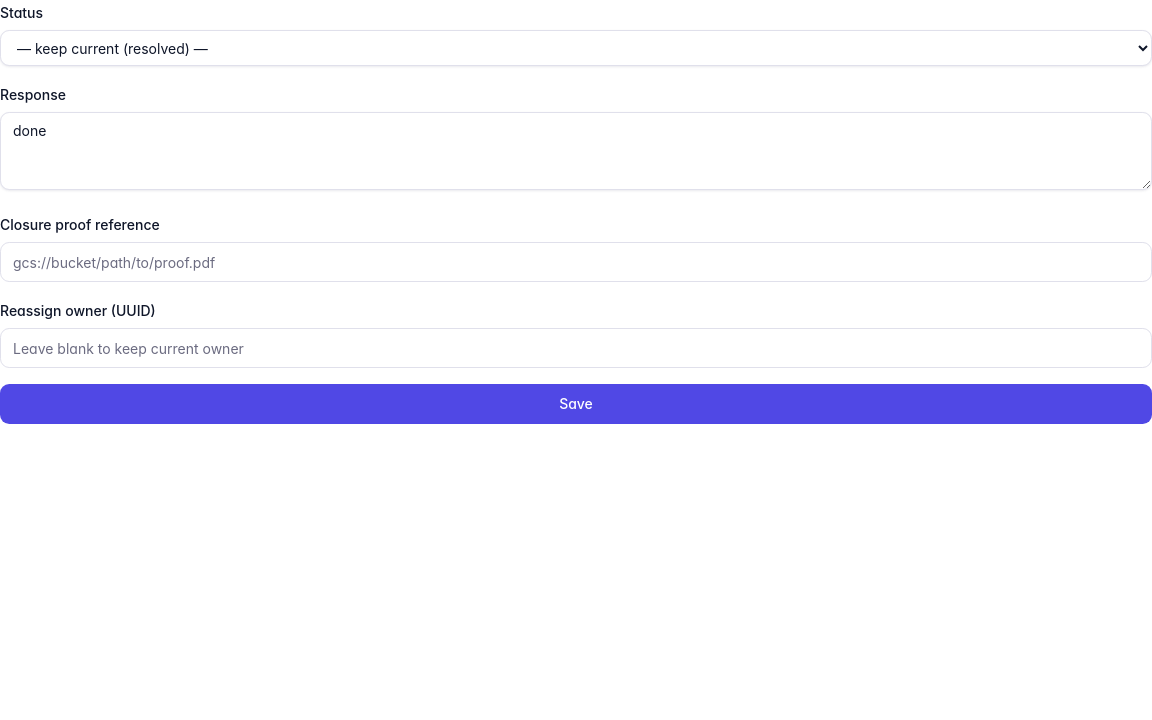
Test: GrievanceResolutionForm › shows ConfirmDialog when user submits status=closed
// Select "closed"
Select "closed" in the dropdown labelled "Status" at (576, 48), box [0,30,1151,66]
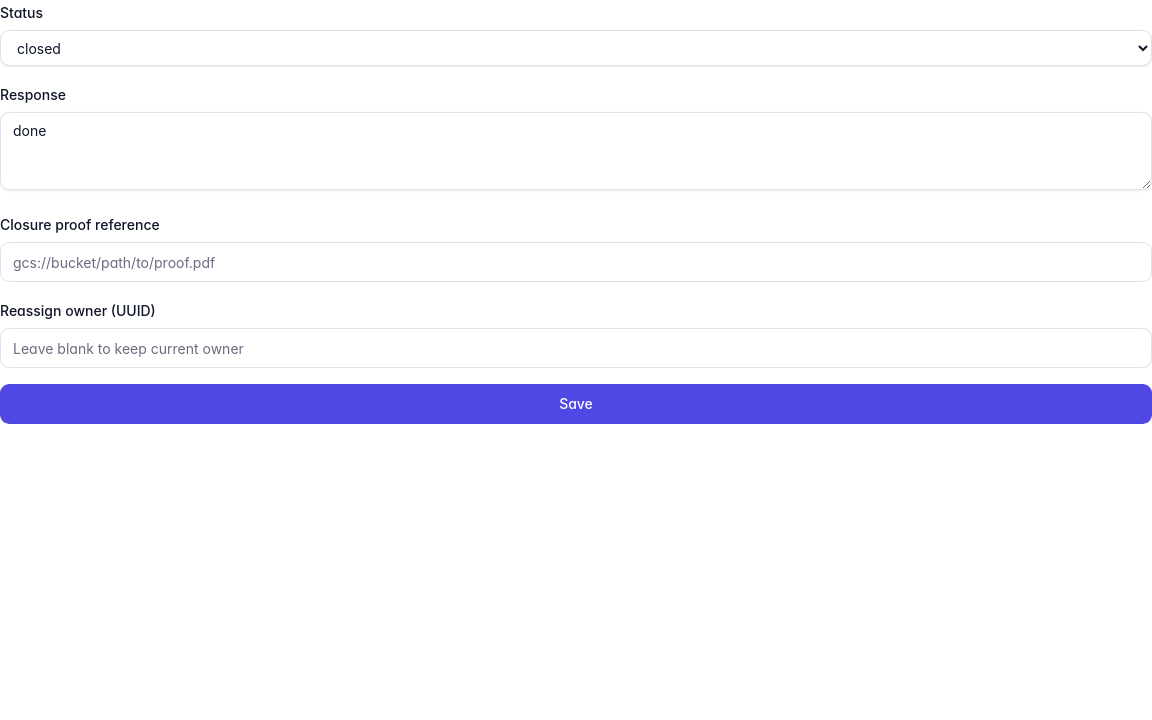
// Fill closureProofRef
Type "gcs://bucket/proof.pdf" into the field labelled "Closure proof reference" at (576, 262), box [0,242,1151,282]
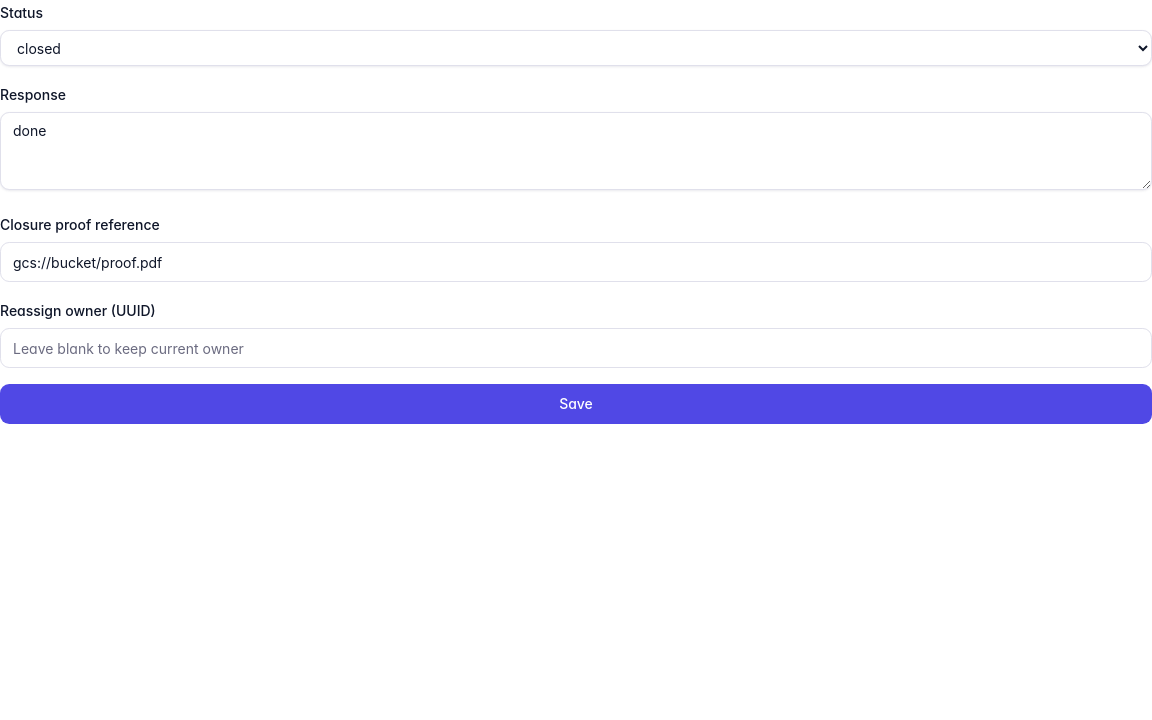
Click the button "Save" at (576, 404), box [0,384,1151,424]
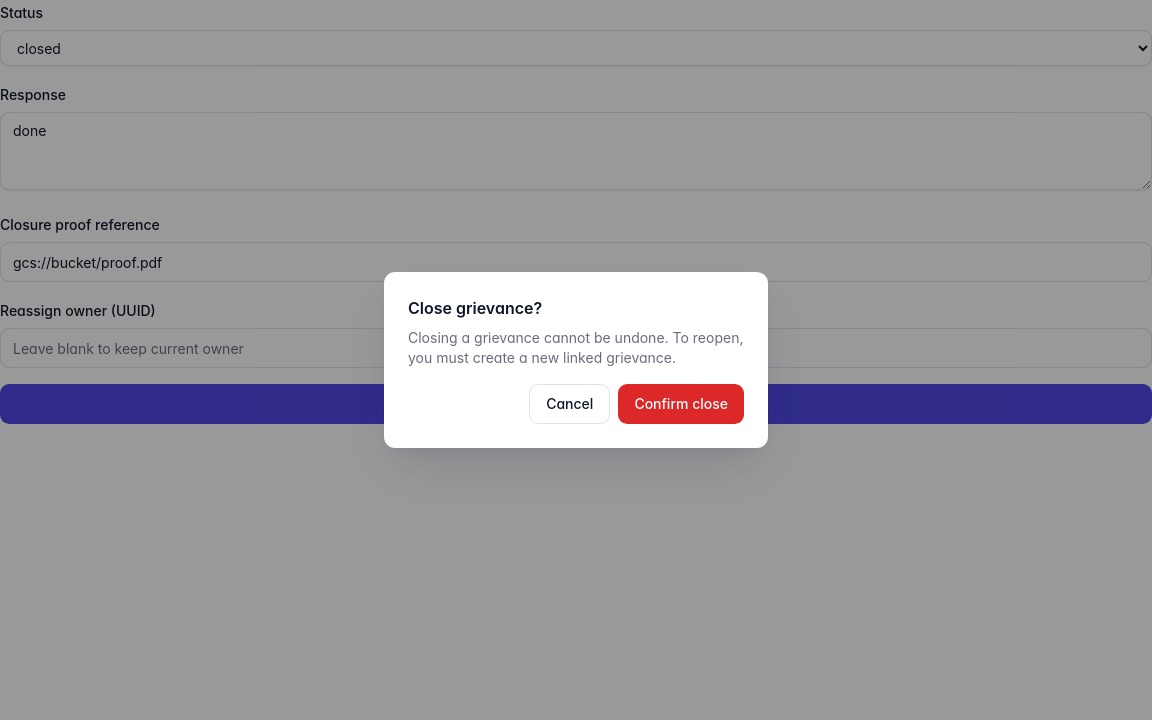
Check: the dialog is shown
Check: the heading "Close grievance?" is shown, box [408,298,542,318]
